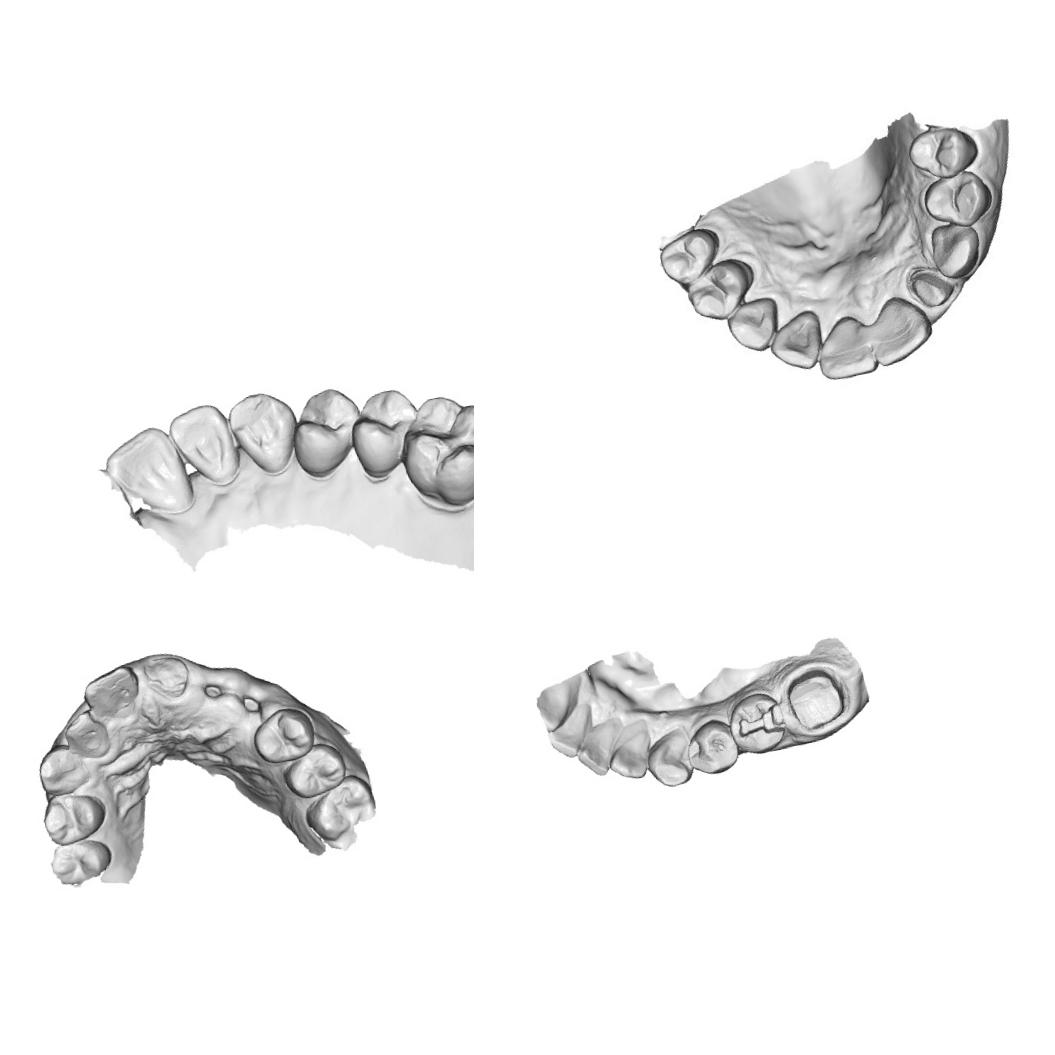canine: (223, 382, 304, 480), (640, 724, 700, 792), (720, 294, 784, 357), (930, 218, 987, 280), (33, 739, 92, 798)
crown: (781, 662, 848, 734), (904, 260, 958, 316)
incisor: (96, 418, 198, 524), (162, 394, 250, 494), (864, 290, 934, 368), (808, 311, 876, 384), (766, 307, 827, 376), (78, 662, 144, 724), (530, 673, 590, 734), (540, 700, 598, 762), (602, 728, 658, 784), (570, 720, 622, 780), (59, 706, 112, 764)
inlay: (729, 697, 788, 745)
molar: (390, 383, 474, 516), (298, 769, 380, 845)
premolar: (280, 378, 370, 480), (341, 383, 429, 481), (678, 256, 758, 327), (276, 737, 350, 802), (248, 701, 319, 767), (38, 786, 110, 848), (654, 224, 722, 288), (681, 713, 745, 779), (923, 168, 994, 226), (45, 835, 115, 888), (909, 124, 975, 178)
